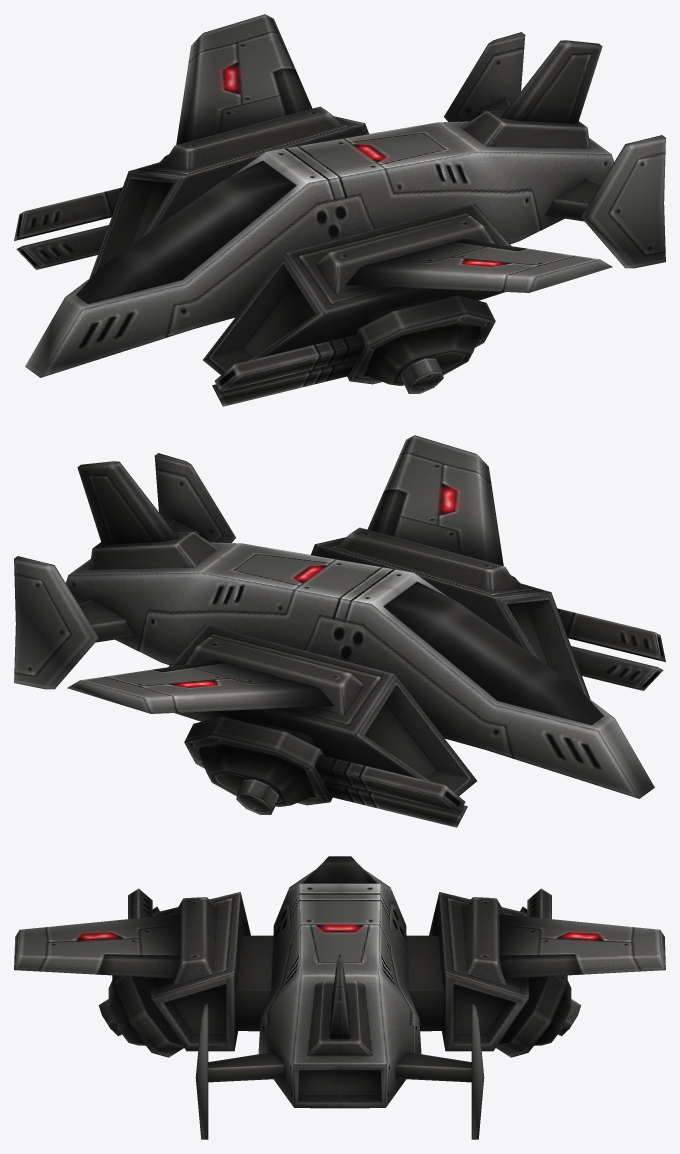
The picture shows the model from 3 angles, top to bottom: view 1: azimuth 30°, elevation 25°; view 2: azimuth 150°, elevation 25°; view 3: azimuth 270°, elevation 25°; orthographic projection. The views are drawn at different scales.
Parts seen in each view (by area): view 1: small_space_ship_5_003; view 2: small_space_ship_5_003; view 3: small_space_ship_5_003.
Part boxes in pixels (x1,y1,x2,y2): small_space_ship_5_003: [14, 14, 665, 406]; small_space_ship_5_003: [14, 435, 665, 827]; small_space_ship_5_003: [14, 856, 665, 1139].
Bounding box in the file's own units: 50.46 × 17.92 × 52.19.
Materials: 1 (1 with a texture image).
